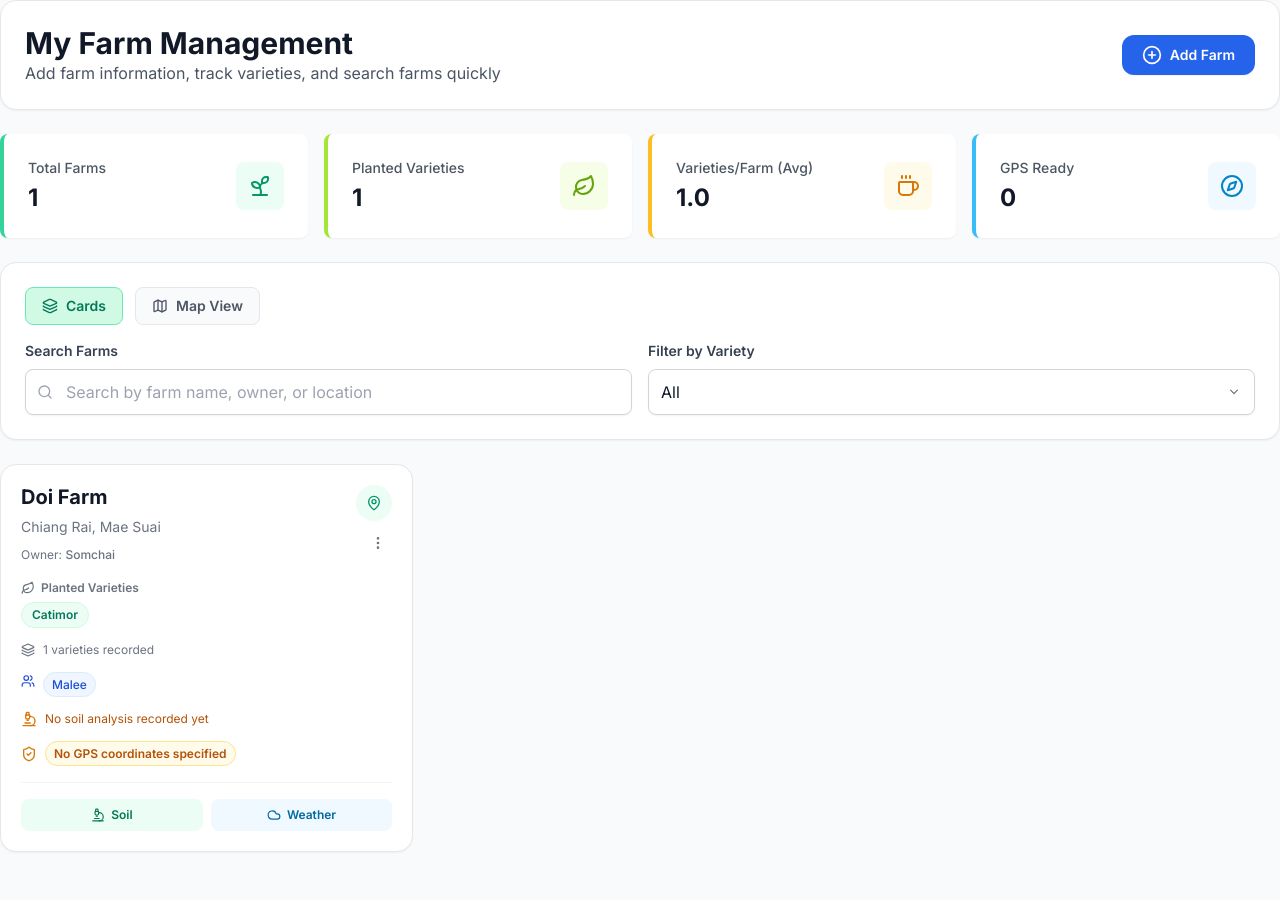
Scenario: Farm Management actions follow the backend's farm rules › the owner gets Edit and Delete on the farm
The width and height of the screenshot is (1280, 900).
Click the button named "Options menu" at [378, 543], box top-left (364, 529), bottom-right (392, 557)
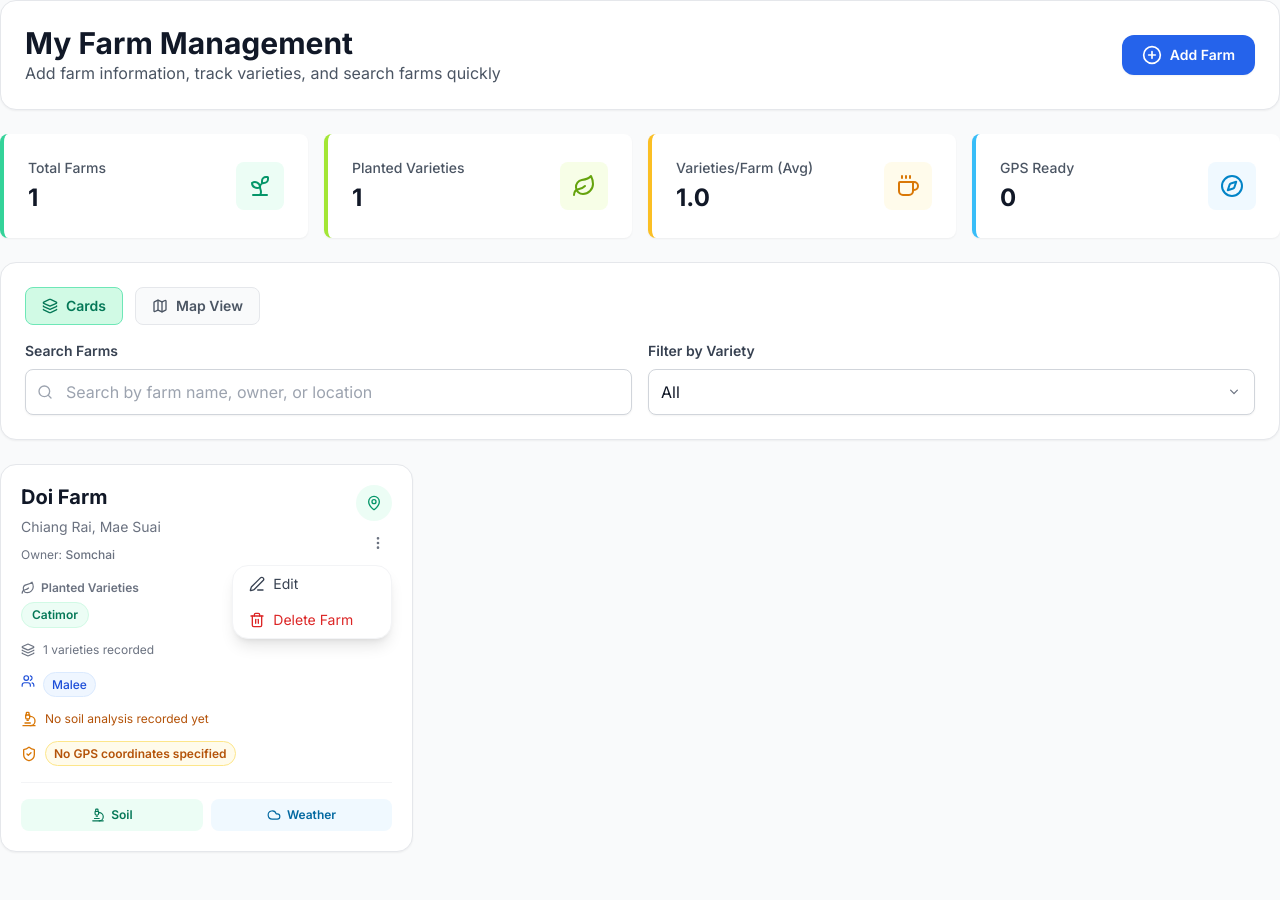
Result: the menu item "Edit" is shown at top-left (233, 566), bottom-right (391, 602)
Result: the menu item "Delete Farm" is shown at top-left (233, 602), bottom-right (391, 638)
